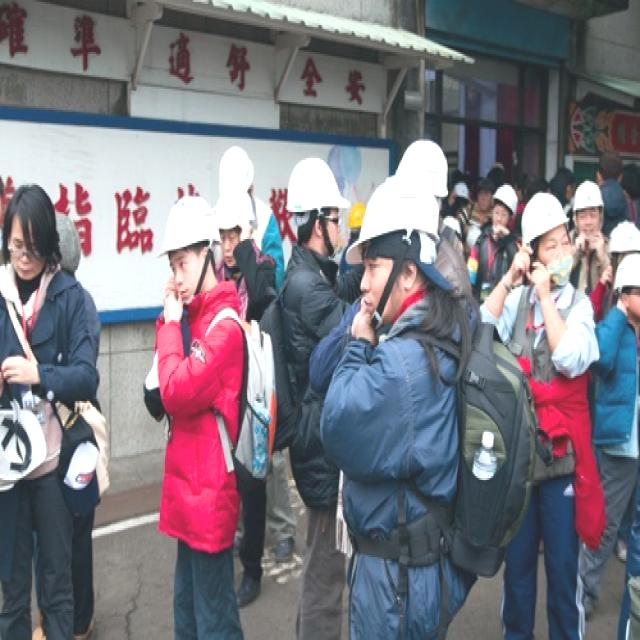Con_Casco: (163, 194, 220, 296), (523, 191, 573, 289)
Sin_Casco_Mascarrilla: (4, 184, 57, 281)
